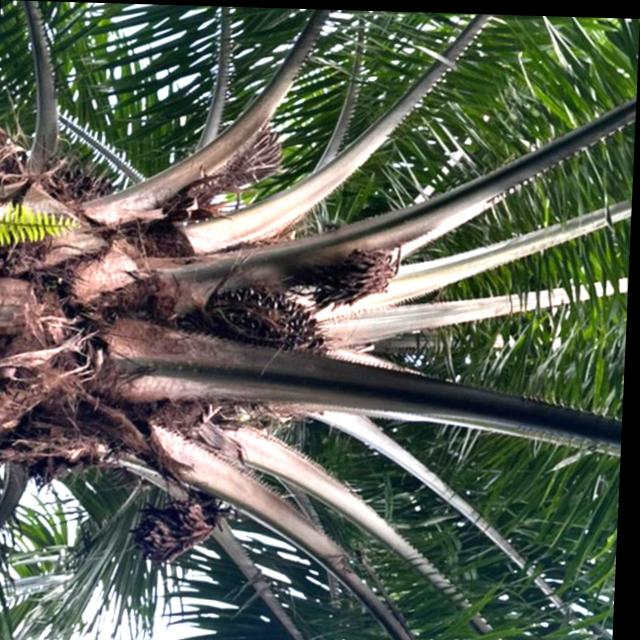almost: (196, 279, 331, 370)
